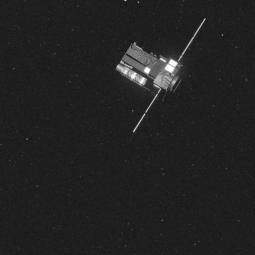soho: (93, 18, 208, 135)
